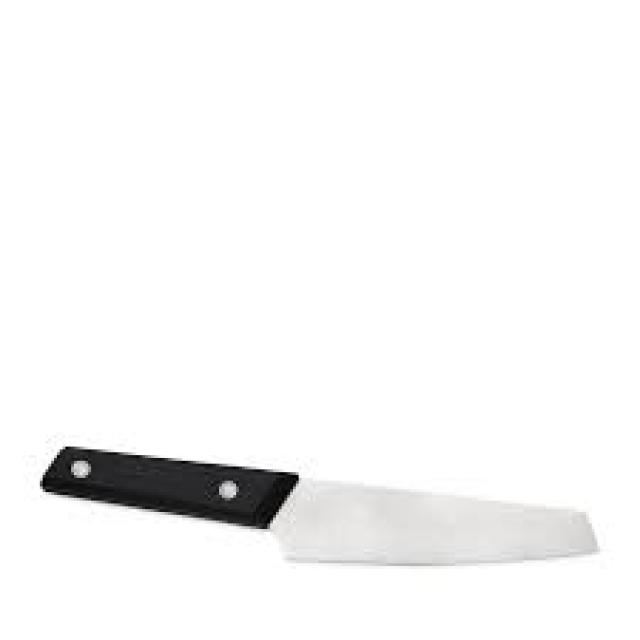Knife: (37, 444, 600, 566)
